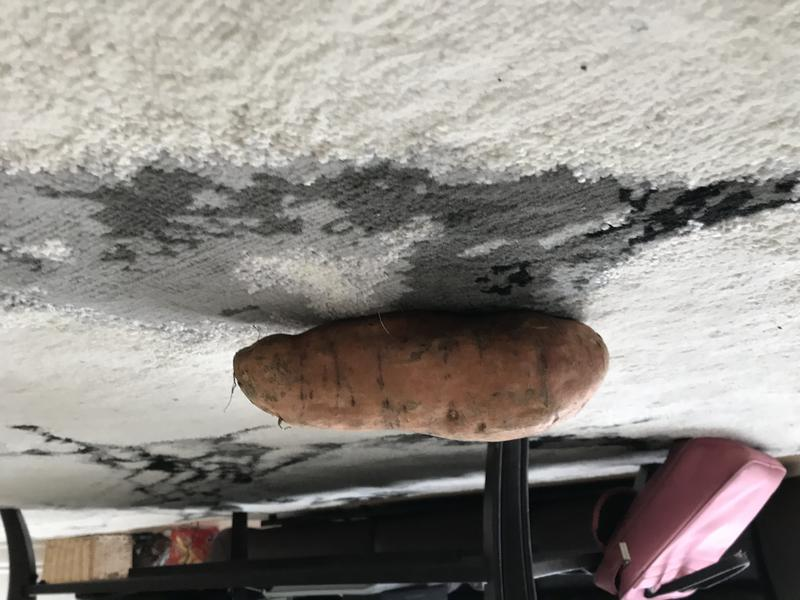sweet_potato: (211, 297, 619, 453)
